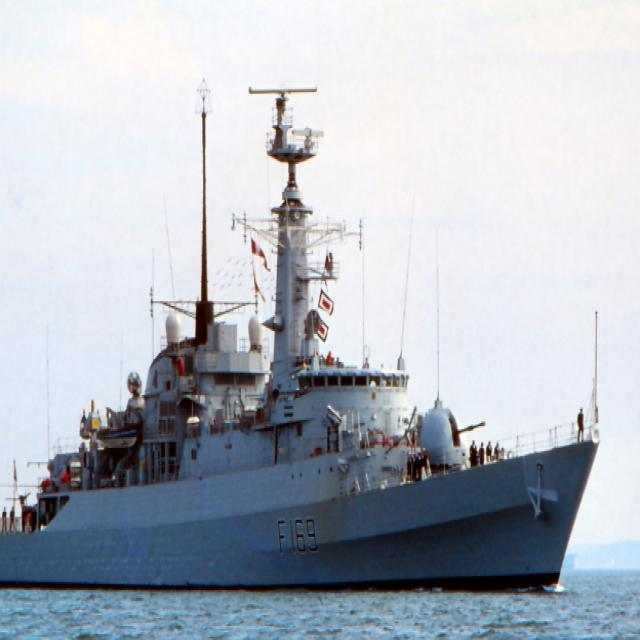Fragata: (1, 73, 607, 603)
